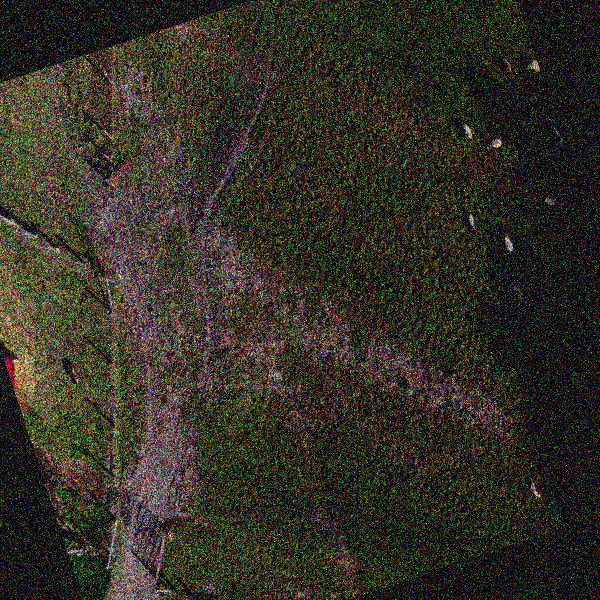sheep: (498, 273, 531, 318), (55, 350, 86, 397), (533, 176, 564, 213), (455, 198, 481, 240), (450, 107, 476, 149), (518, 468, 544, 506), (493, 228, 520, 262), (493, 45, 517, 82), (544, 117, 566, 153), (481, 127, 506, 154), (520, 51, 541, 78)
